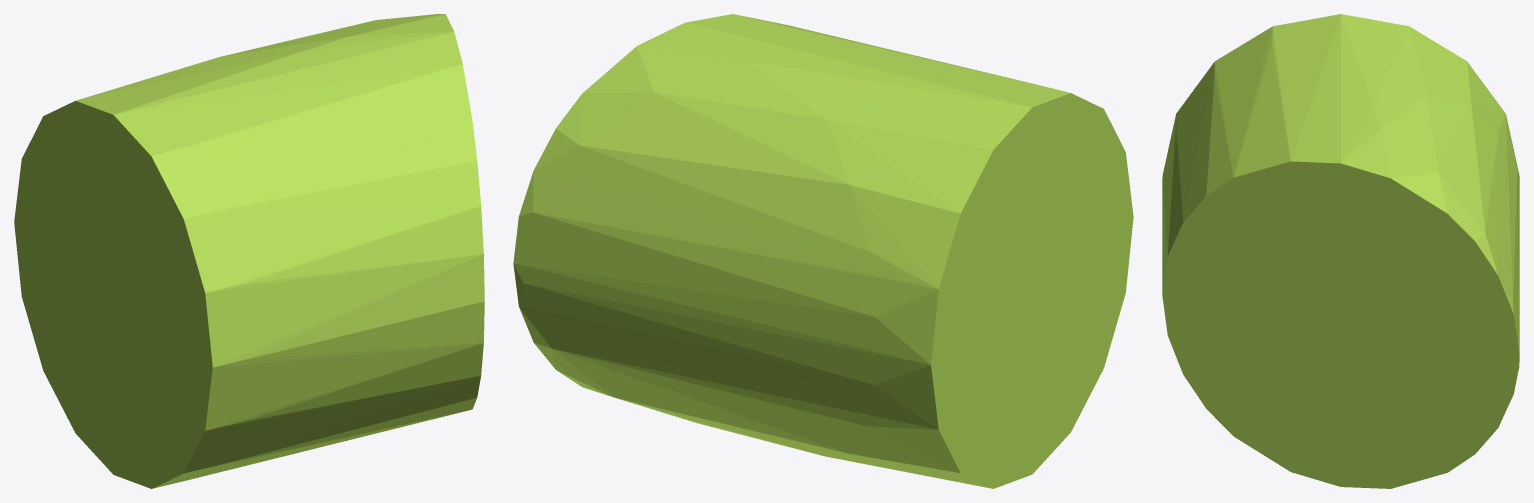
Rendered from industrial_06397_link_5_respondable_respondable_respondable_respondable_respondable_respondable_coll_1.dae.
The picture shows the model from 3 angles, left to right: view 1: azimuth 30°, elevation 25°; view 2: azimuth 150°, elevation 25°; view 3: azimuth 270°, elevation 25°; orthographic projection. The views are drawn at different scales.
Parts seen in each view (by area): view 1: node; view 2: node; view 3: node.
Boxes of the visible parts, x1,y1,x2,y2 form: node: (14, 14, 484, 488); node: (513, 14, 1133, 488); node: (1162, 14, 1519, 488).
Size of the model in its own units: 0.0893 by 0.075 by 0.0751.
